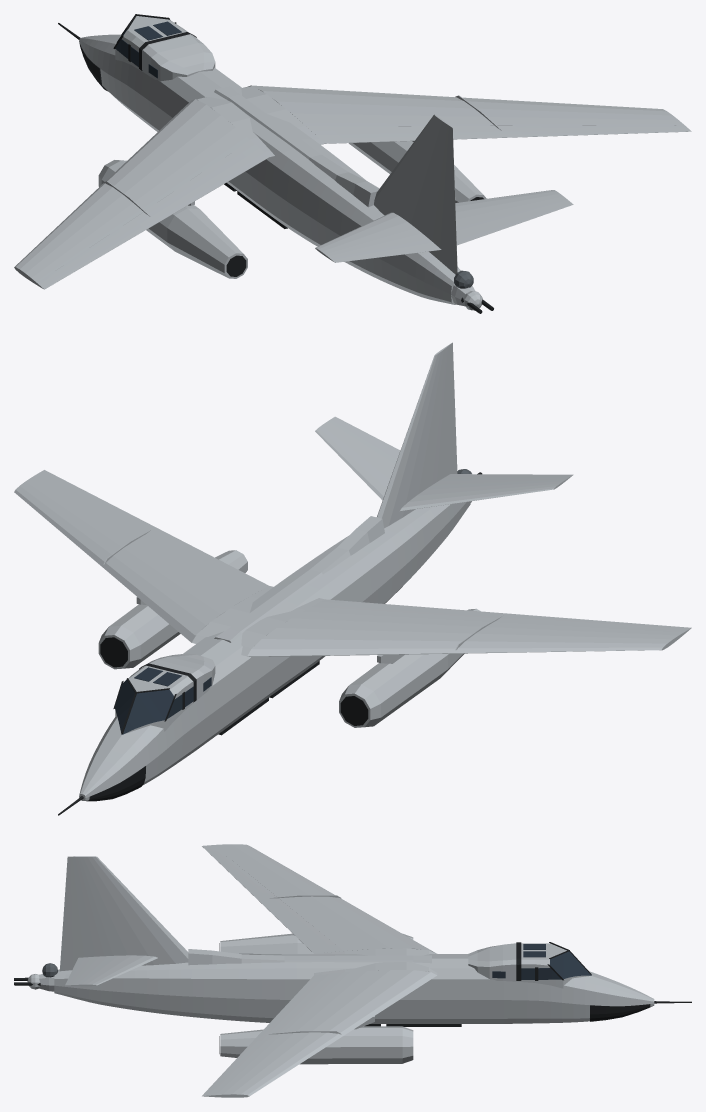
3 views of the same model, one above another, from view 1: azimuth 30°, elevation 25°; view 2: azimuth 150°, elevation 25°; view 3: azimuth 270°, elevation 25° (orthographic). The views are drawn at different scales.
Parts seen in each view (by area): view 1: Fuselage, Wing L, Wing R, Nacelles, Vertical Fin, Cockpit Roof, Rudder, Dorsal Fairing, Flap L, Flap R, Stabilizer L, Stabilizer R (+6 smaller); view 2: Fuselage, Wing L, Wing R, Nacelles, Vertical Fin, Dorsal Fairing, Cockpit Glass, Stabilizer L, Cockpit Roof, Stabilizer R, Rudder, Flap R (+6 smaller); view 3: Fuselage, Wing R, Wing L, Vertical Fin, Nacelles, Rudder, Cockpit Roof, Dorsal Fairing, Cockpit Glass, Flap L, Flap R, Stabilizer R (+5 smaller).
Part boxes in pixels (x1,y1,x2,y2): Fuselage: (79,34,460,304); Wing L: (14,97,274,289); Wing R: (241,85,691,144); Nacelles: (98,141,486,278); Vertical Fin: (374,114,446,234); Cockpit Roof: (115,16,215,81); Rudder: (424,123,457,274); Dorsal Fairing: (214,86,379,207); Flap L: (133,149,255,229); Flap R: (329,125,526,142); Stabilizer L: (315,212,423,257); Stabilizer R: (455,190,566,226); Fuselage: (79,501,470,800); Wing L: (241,598,691,657); Wing R: (14,470,273,643); Nacelles: (98,550,480,727); Vertical Fin: (377,347,446,527); Dorsal Fairing: (214,516,384,642); Cockpit Glass: (114,667,211,734); Stabilizer L: (400,479,566,511); Cockpit Roof: (115,653,215,734); Stabilizer R: (315,421,395,500); Rudder: (430,342,457,485); Flap R: (134,522,255,588); Fuselage: (54,953,654,1023); Wing R: (202,962,437,1097); Wing L: (202,844,436,955); Vertical Fin: (78,856,188,965); Nacelles: (220,933,413,1064); Rudder: (59,856,107,971); Cockpit Roof: (468,943,590,988); Dorsal Fairing: (188,949,431,965); Cockpit Glass: (492,944,591,979); Flap L: (252,893,335,947); Flap R: (253,980,335,1041); Stabilizer R: (76,955,157,986).
Size of the model in its own units: 22.1 by 6.76 by 25.3.
